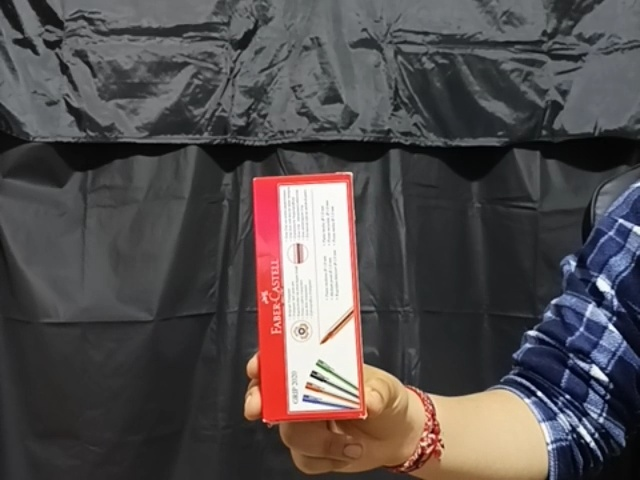xd: (248, 174, 366, 422)
